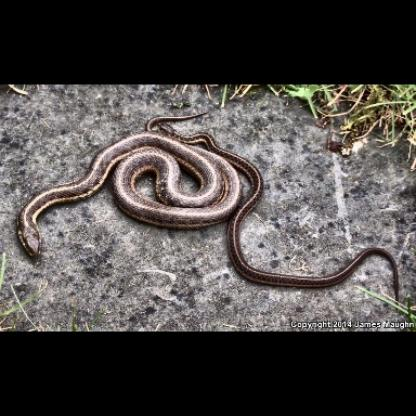Snake: (17, 117, 285, 288)
